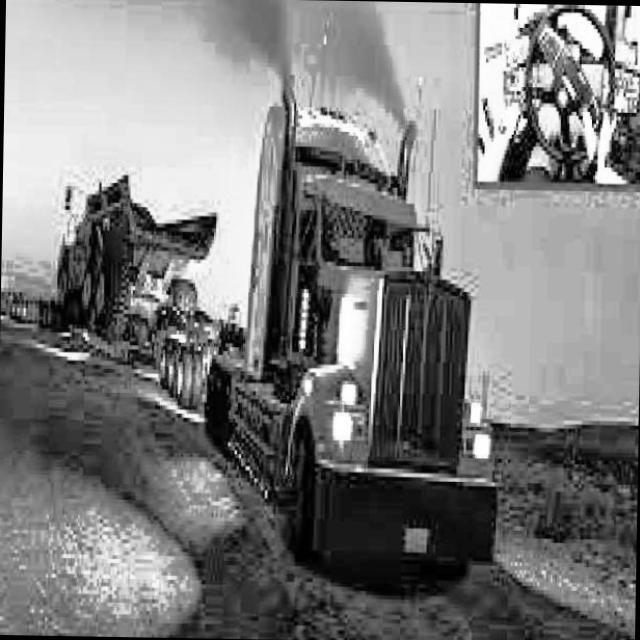Truck: (200, 70, 508, 578)
